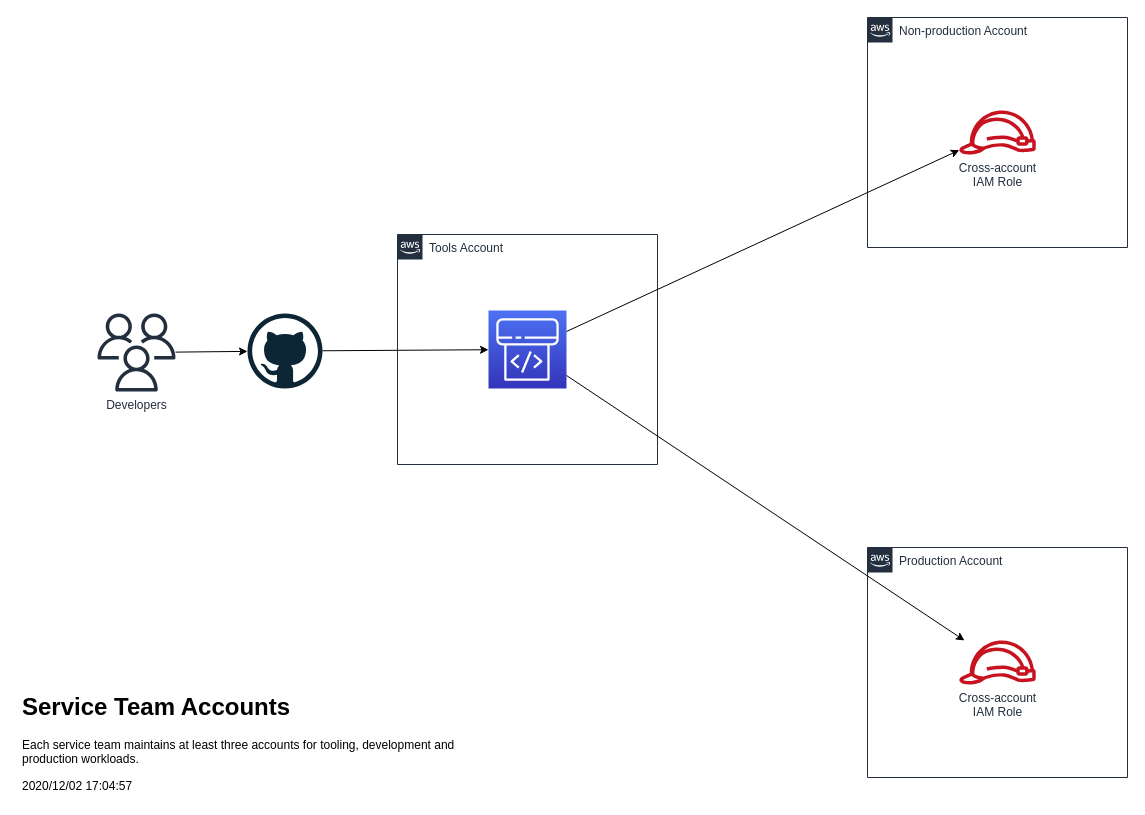
The diagram is 1145 pixels wide and 815 high, and some of its shapes have lost their labels. The box of each missing label's shape, as (x1, y1, x2, y2) in pixels:
CodePipeline: (488, 310, 566, 388)
GitHub Repository: (246, 312, 322, 388)
